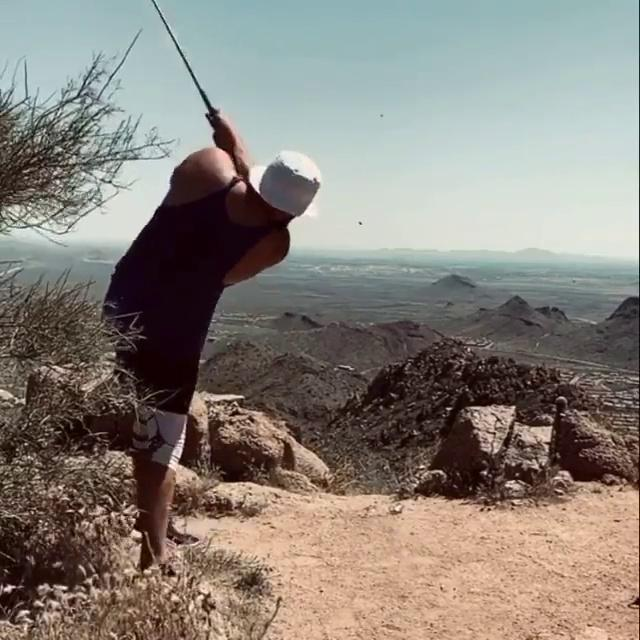ClubHandle: (151, 0, 213, 114)
